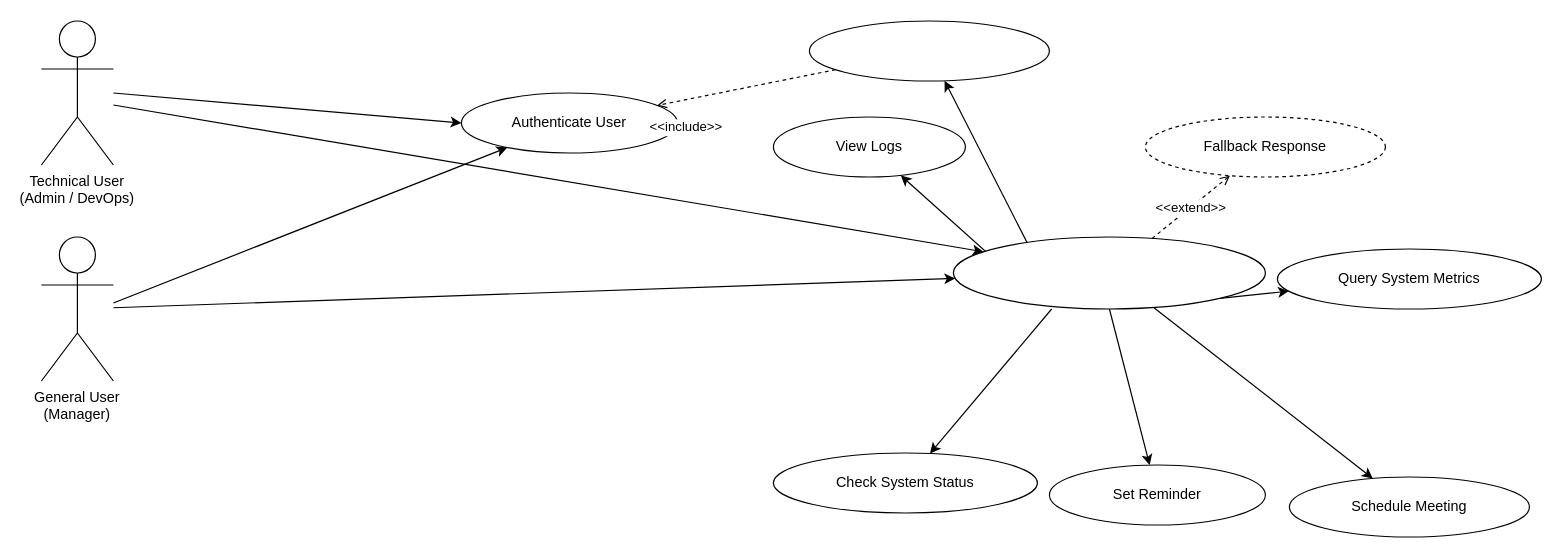
This 1564x558 diagram has some shape labels left out. Here are the shapes that lost their labels. From the top down, the centre of each, then its label:
At (928,50): "Execute Script".
At (1108,272): "Submit Natural Language Command".
